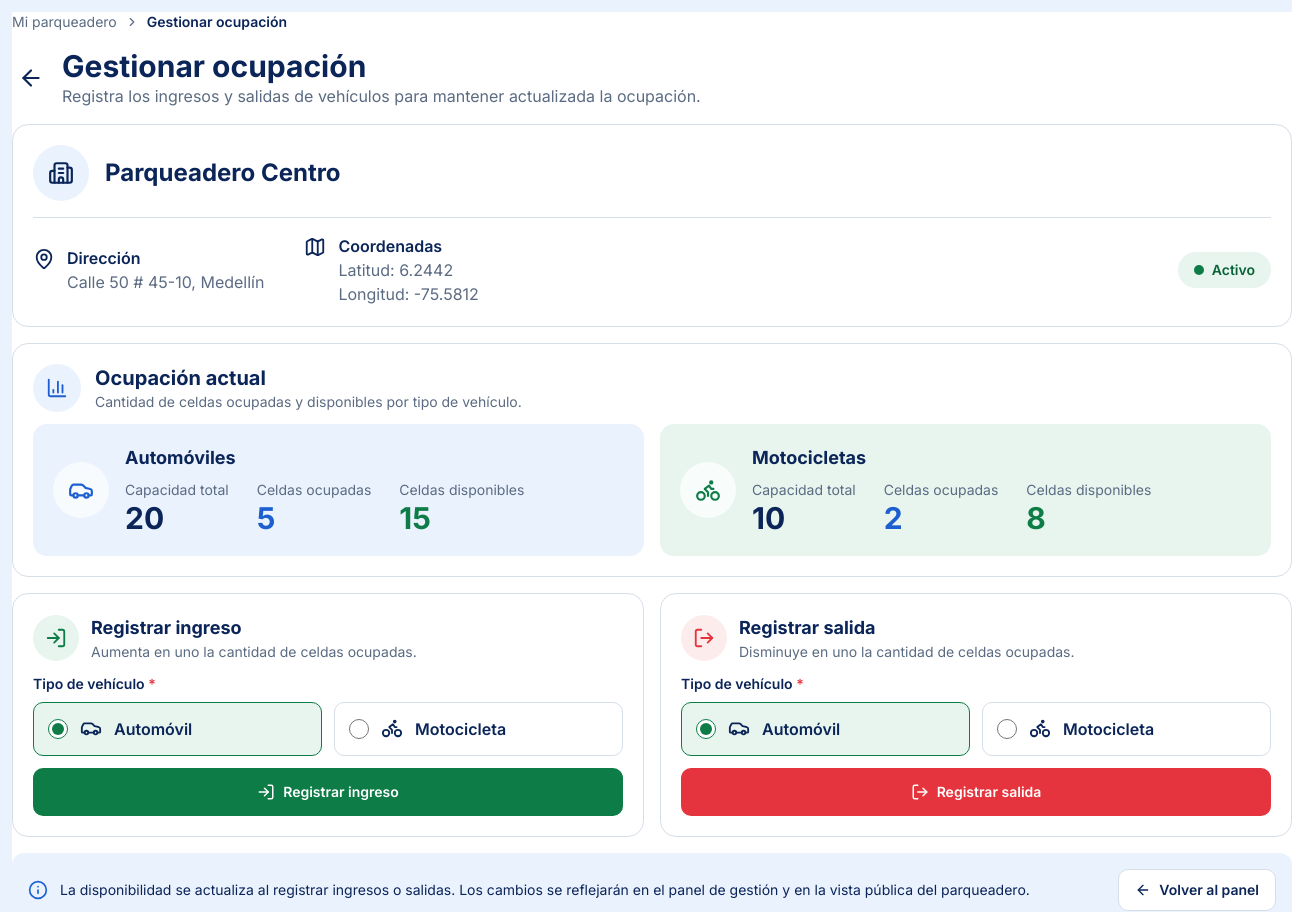
ManageOccupancy › un ingreso exitoso actualiza la ocupación y muestra el mensaje
Click the button "Registrar ingreso". click: (328, 792)
box: [33,768,623,816]
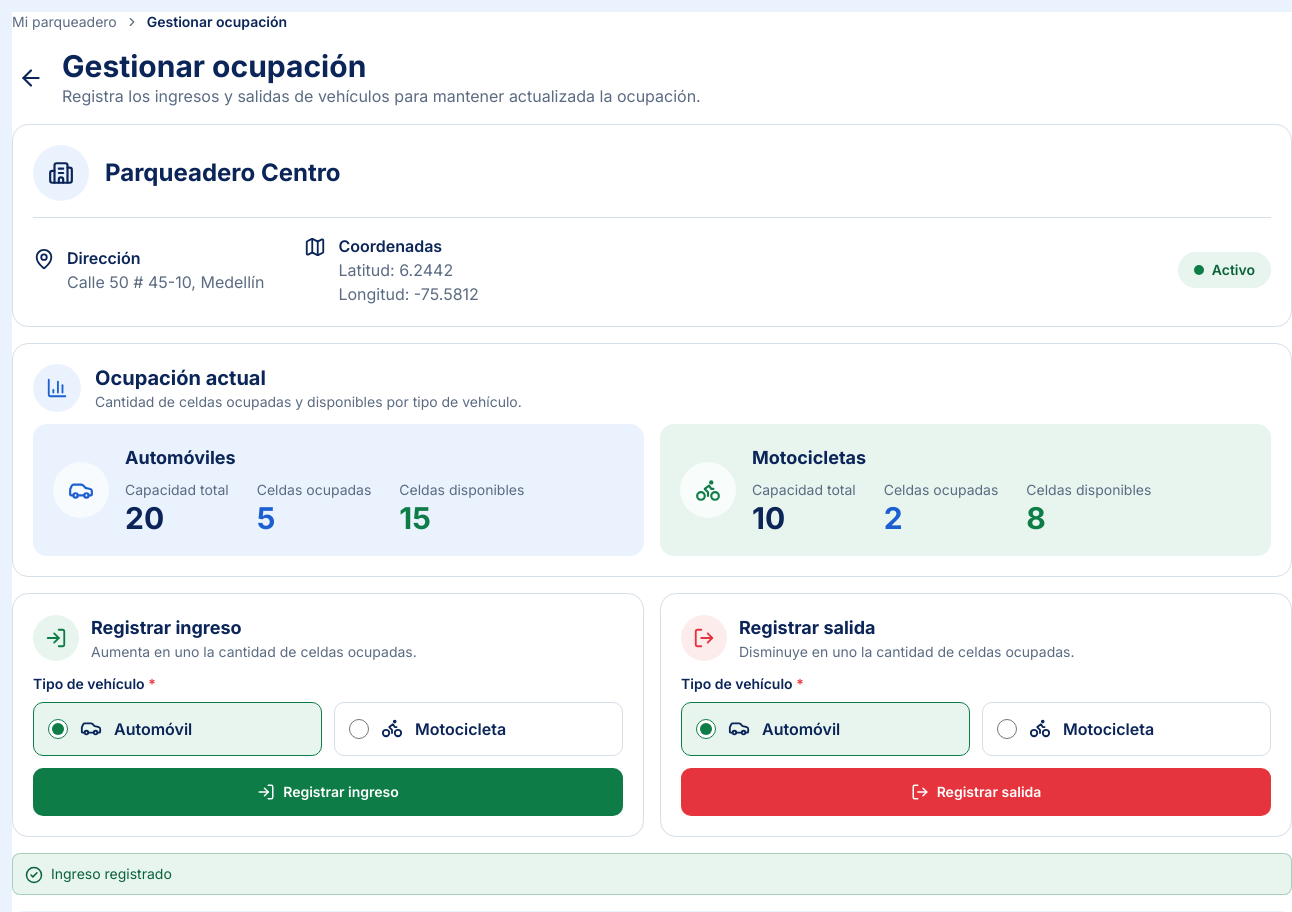
Expected: the text "Ingreso registrado" is shown, [51,864,172,884]
